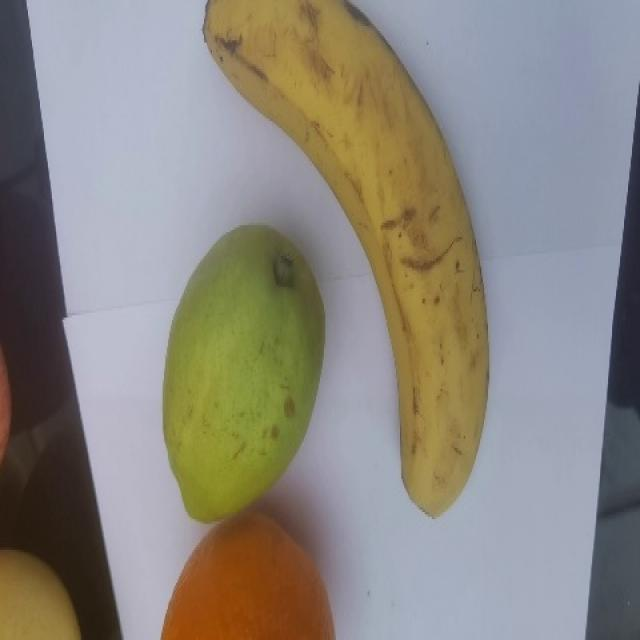Banana: (202, 0, 494, 522)
Orange: (153, 517, 339, 640)
